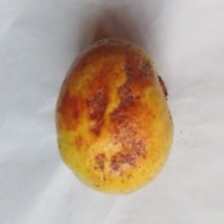guava: (27, 51, 224, 192)
